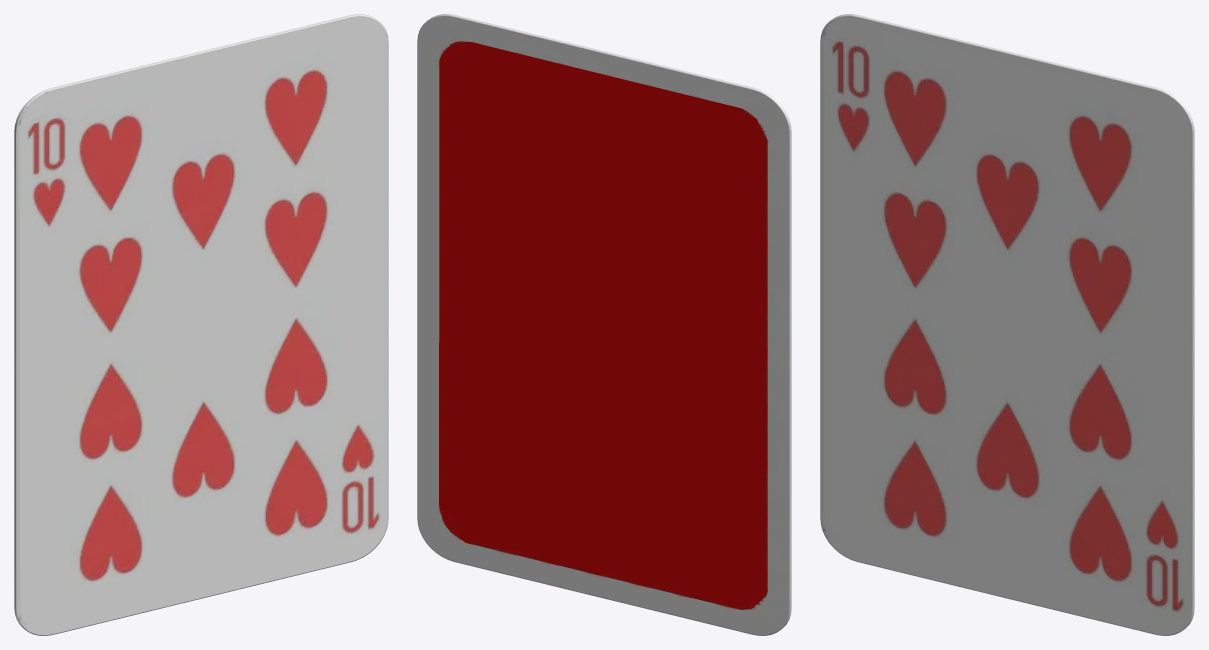
Rendered from hearts_10.glb.
3 renders of one model, left to right at view 1: azimuth 30°, elevation 25°; view 2: azimuth 150°, elevation 25°; view 3: azimuth 330°, elevation 25°, orthographic.
Visible parts, largest first — view 1: defaultMaterial.038; view 2: defaultMaterial.038; view 3: defaultMaterial.038.
Boxes of the visible parts, left/top/right/bottom form: defaultMaterial.038: left=14, top=14, right=388, bottom=635; defaultMaterial.038: left=417, top=14, right=791, bottom=635; defaultMaterial.038: left=820, top=14, right=1194, bottom=635.
Bounding box in the file's own units: 0.1408 × 0.1972 × 0.00111.
1 material, 1 textured.
